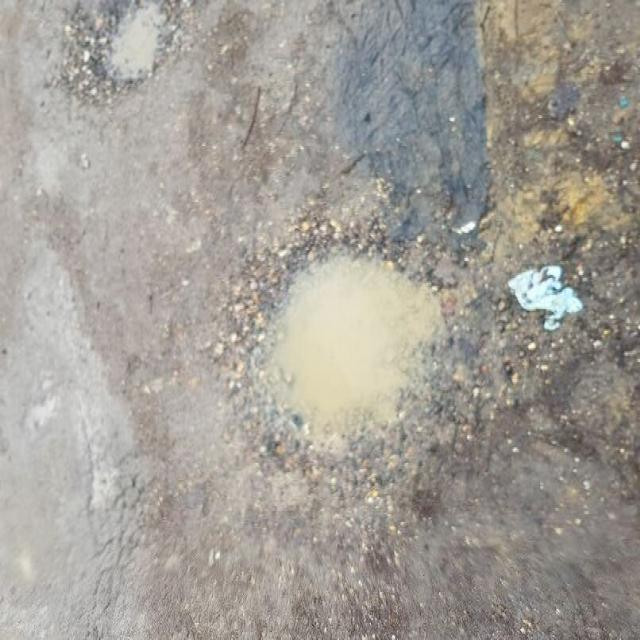pothole: (227, 211, 458, 466), (59, 0, 187, 96)
